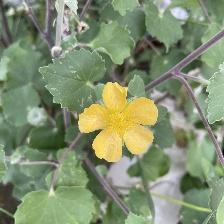indian mallow: (80, 81, 161, 166)
